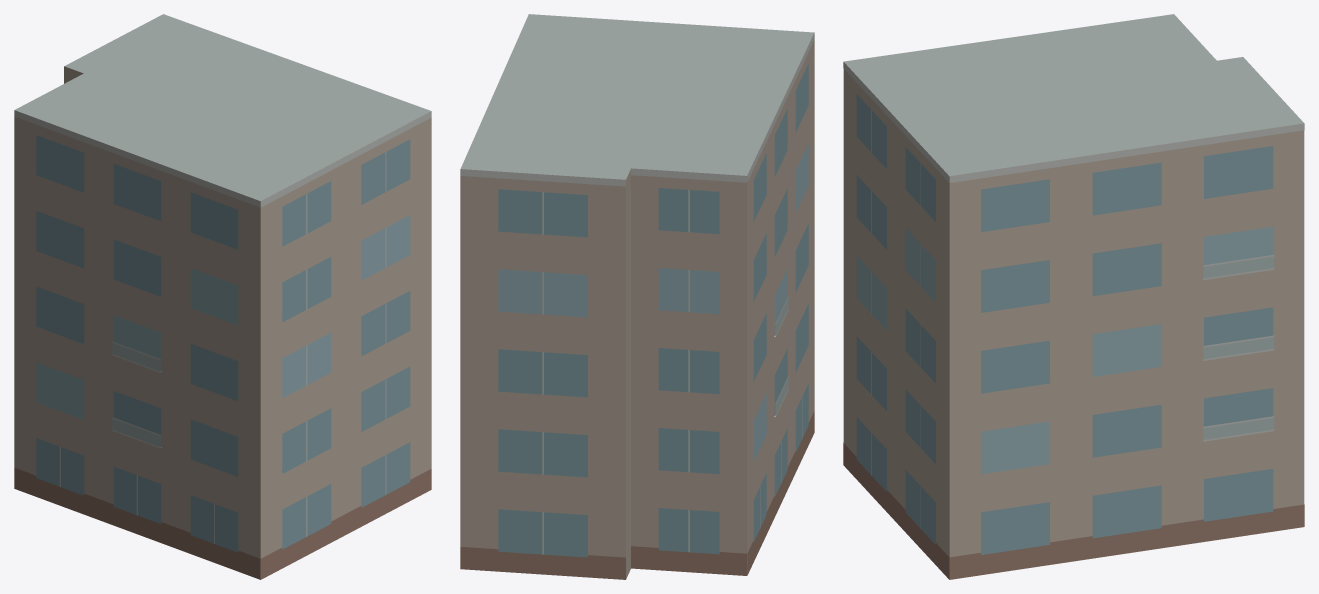
The model's file is survey-upis-32743122.glb.
3 views of the same model, side by side, from view 1: azimuth 30°, elevation 25°; view 2: azimuth 150°, elevation 25°; view 3: azimuth 270°, elevation 25° (orthographic). The views are drawn at different scales.
Parts seen in each view (by area): view 1: survey-upis-32743122.tmp; view 2: survey-upis-32743122.tmp; view 3: survey-upis-32743122.tmp.
Boxes of the visible parts, left/top/right/bottom form: survey-upis-32743122.tmp: left=14, top=14, right=431, bottom=579; survey-upis-32743122.tmp: left=460, top=14, right=814, bottom=579; survey-upis-32743122.tmp: left=843, top=14, right=1304, bottom=579.
Bounding box in the file's own units: 12.43 × 14.4 × 14.92.
